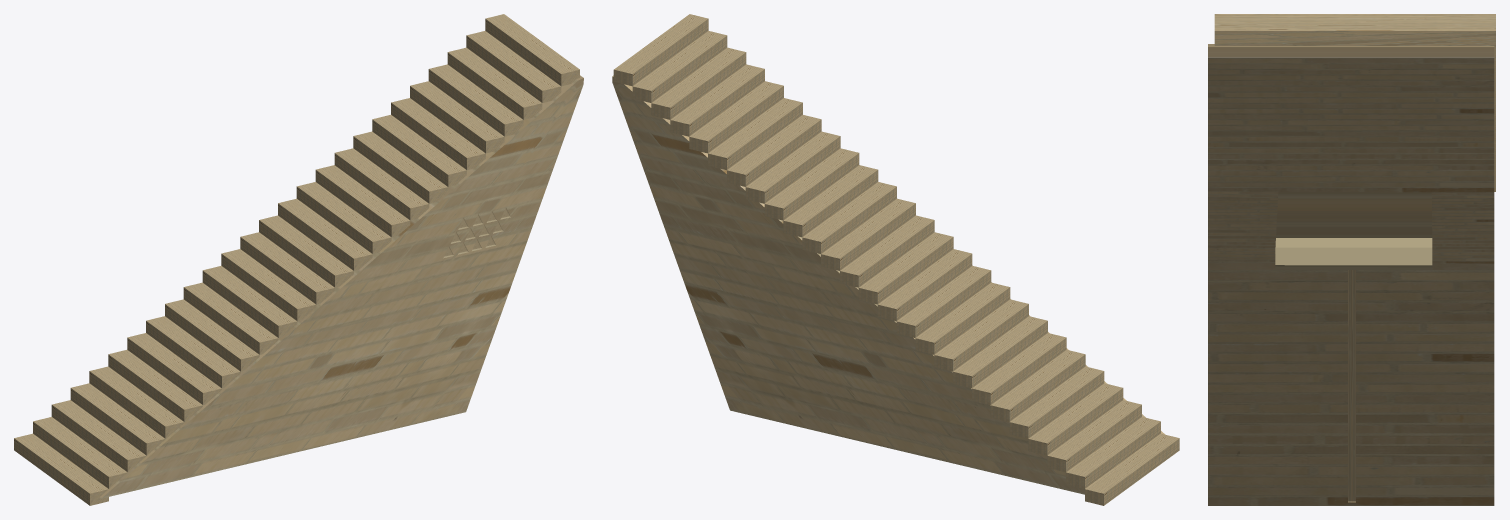
File:  RoyalInstitute 1.fbx
3 views of the same model, side by side, from view 1: azimuth 30°, elevation 25°; view 2: azimuth 150°, elevation 25°; view 3: azimuth 270°, elevation 25° (orthographic). The views are drawn at different scales.
Parts seen in each view (by area): view 1: Cube, triangle; view 2: Cube, triangle; view 3: triangle, Cube.
Part boxes in pixels (bbox=[...]): Cube: bbox=[14, 14, 579, 505]; triangle: bbox=[33, 75, 583, 498]; Cube: bbox=[613, 14, 1179, 505]; triangle: bbox=[612, 75, 1164, 494]; triangle: bbox=[1208, 44, 1494, 505]; Cube: bbox=[1214, 14, 1495, 191].
Size of the model in its own units: 728 by 448 by 199.
Materials: 1 (1 with a texture image).
